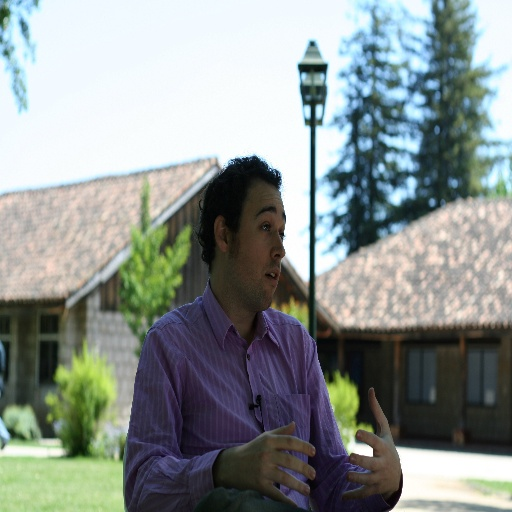hand: (229, 421, 317, 510), (351, 399, 407, 509)
